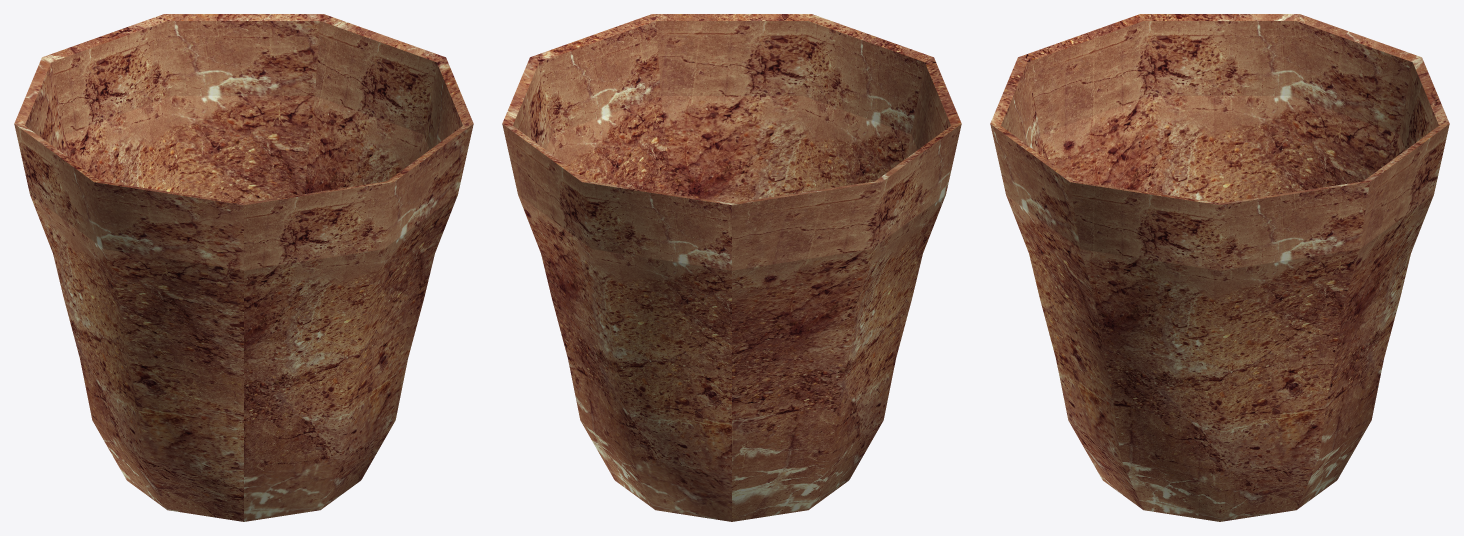
Rendered from pot.FBX.
3 renders of one model, left to right at view 1: azimuth 30°, elevation 25°; view 2: azimuth 150°, elevation 25°; view 3: azimuth 270°, elevation 25°, orthographic.
Visible parts, largest first — view 1: pot; view 2: pot; view 3: pot.
Part boxes in pixels (x1,y1,x2,y2): pot: [14, 14, 473, 521]; pot: [502, 14, 961, 521]; pot: [990, 14, 1449, 521].
Bounding box in the file's own units: 37.82 × 33.66 × 38.4.
1 material, 1 textured.
